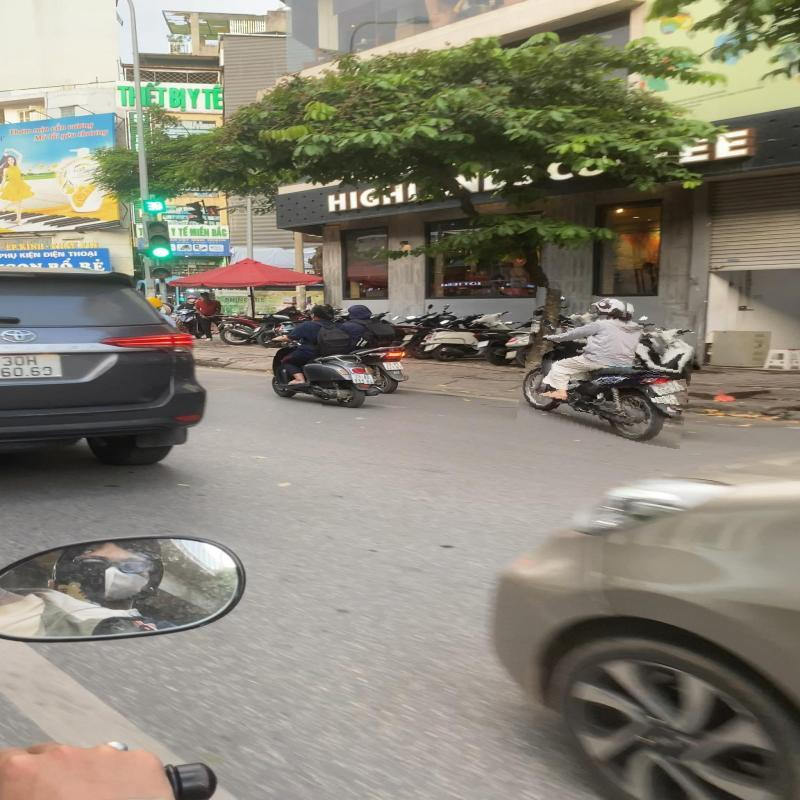helmet: (590, 297, 628, 316)
licenseplate: (648, 380, 688, 397), (350, 373, 376, 384)
motorcyclist: (521, 292, 697, 443), (268, 302, 376, 410)
nohelmet: (309, 304, 334, 319)
